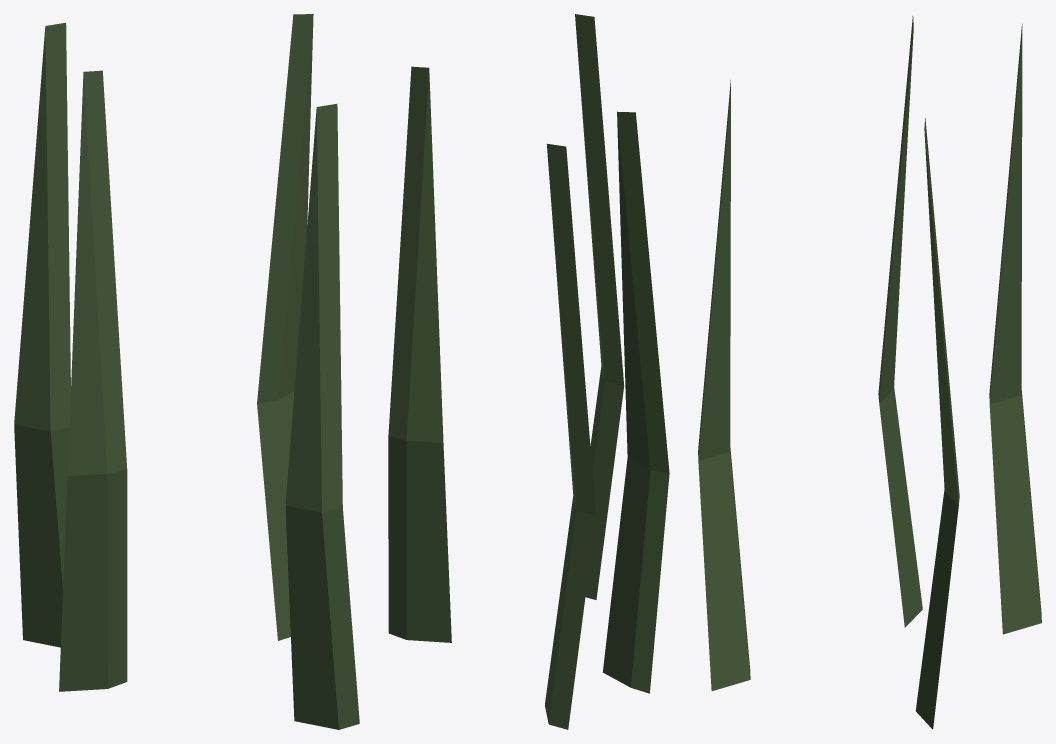
The model's file is Grass_2.gltf.
3 views of the same model, side by side, from view 1: azimuth 30°, elevation 25°; view 2: azimuth 150°, elevation 25°; view 3: azimuth 270°, elevation 25° (orthographic). The views are drawn at different scales.
Visible parts, largest first — view 1: Grass_2; view 2: Grass_2; view 3: Grass_2.
Boxes of the visible parts, x1,y1,x2,y2 form: Grass_2: [14, 14, 359, 729]; Grass_2: [388, 14, 669, 729]; Grass_2: [698, 16, 1041, 729].
Size of the model in its own units: 0.2501 by 0.5237 by 0.2733.
